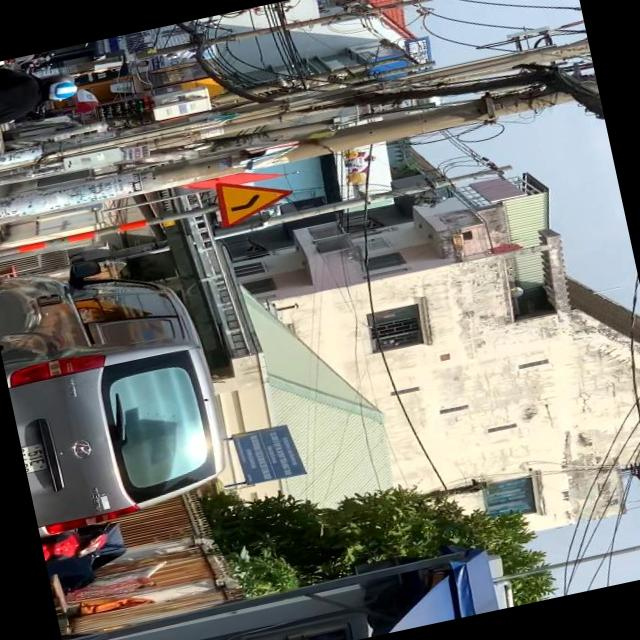W-201a: (212, 166, 298, 228)
